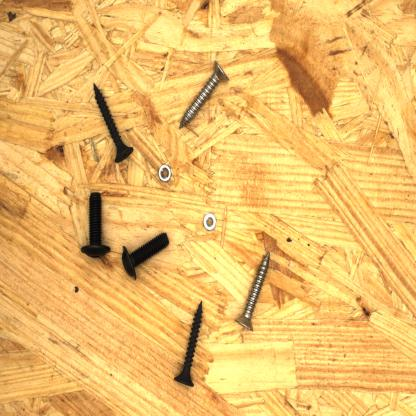screw: (176, 56, 234, 133), (90, 80, 136, 166), (232, 248, 274, 336), (170, 298, 206, 390), (118, 228, 172, 284), (76, 188, 114, 261)
